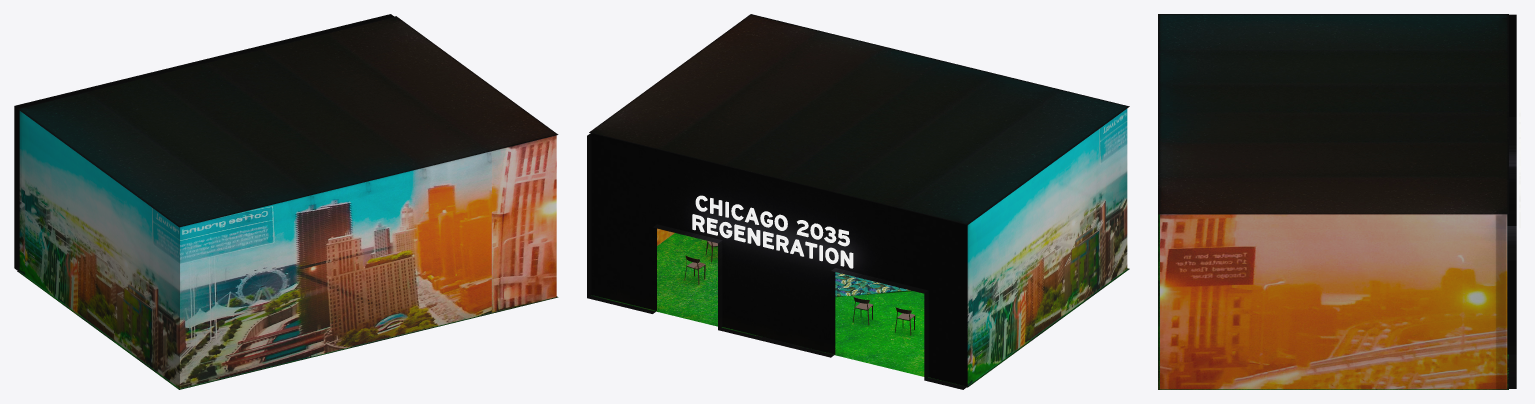
File: CR_2035_BAKED_opaque.glb
3 renders of one model, left to right at view 1: azimuth 30°, elevation 25°; view 2: azimuth 150°, elevation 25°; view 3: azimuth 270°, elevation 25°, orthographic. The views are drawn at different scales.
Visible parts, largest first — view 1: CR_2035_video_wall, CR_2035_ceiling, CR_2035_wall, CR_2035_floor; view 2: CR_2035_ceiling, CR_2035_wall, CR_2035_video_wall, CR_2035_floor, CR_2035_signage, CR_2035_blanket, CR_2035_furniture; view 3: CR_2035_ceiling, CR_2035_video_wall, CR_2035_wall, CR_2035_floor.
Boxes of the visible parts, box(x1,y1,x2,y2) form: CR_2035_video_wall: box(19, 111, 556, 388); CR_2035_ceiling: box(17, 16, 558, 227); CR_2035_wall: box(14, 14, 393, 270); CR_2035_floor: box(17, 271, 558, 389); CR_2035_ceiling: box(589, 14, 1129, 224); CR_2035_wall: box(587, 133, 967, 389); CR_2035_video_wall: box(657, 109, 1127, 385); CR_2035_floor: box(591, 233, 1129, 387); CR_2035_signage: box(692, 195, 853, 268); CR_2035_blanket: box(835, 272, 910, 296); CR_2035_furniture: box(684, 241, 915, 335); CR_2035_ceiling: box(1158, 14, 1508, 214); CR_2035_video_wall: box(1160, 214, 1507, 389); CR_2035_wall: box(1507, 14, 1516, 388); CR_2035_floor: box(1158, 214, 1508, 389).
Bounding box in the file's own units: 12.32 × 5.05 × 9.44.
Materials: 8 (7 with a texture image).
